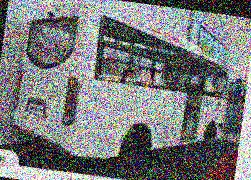bus: (8, 0, 242, 180)
